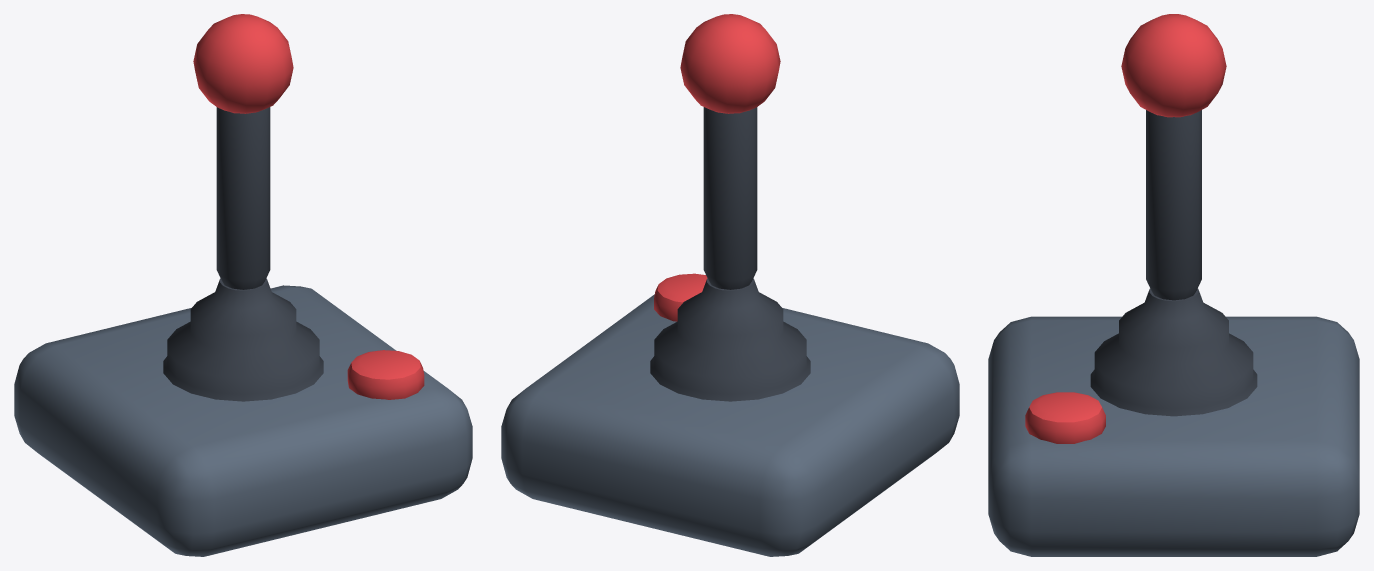
The model's file is videogame_joystick.glb.
The picture shows the model from 3 angles, left to right: view 1: azimuth 30°, elevation 25°; view 2: azimuth 150°, elevation 25°; view 3: azimuth 270°, elevation 25°; orthographic projection. The views are drawn at different scales.
Visible parts, largest first — view 1: videogame_joystick; view 2: videogame_joystick; view 3: videogame_joystick.
Part boxes in pixels (box(x1,y1,x2,y2)): videogame_joystick: box(14, 14, 472, 556); videogame_joystick: box(501, 14, 959, 556); videogame_joystick: box(988, 14, 1359, 556).
Size of the model in its own units: 0.12 by 0.169 by 0.12.
Materials: 1 (1 with a texture image).
